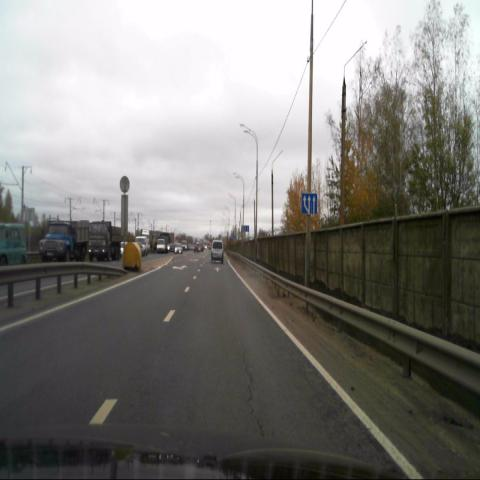5_15_2_2: (301, 192, 318, 213)
